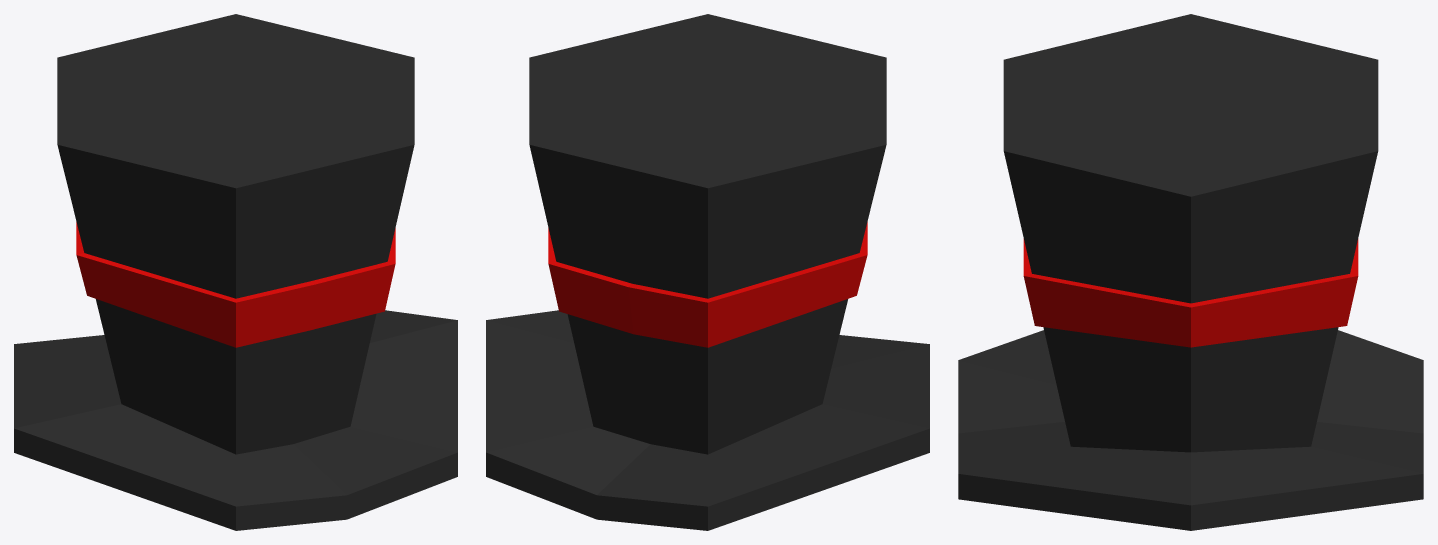
Rendered from sombrero1.fbx.
3 views of the same model, side by side, from view 1: azimuth 30°, elevation 25°; view 2: azimuth 150°, elevation 25°; view 3: azimuth 270°, elevation 25° (orthographic). The views are drawn at different scales.
Parts seen in each view (by area): view 1: Sombrero1; view 2: Sombrero1; view 3: Sombrero1.
Part boxes in pixels (<box>): Sombrero1: <box>14,14,457,530</box>; Sombrero1: <box>486,14,929,530</box>; Sombrero1: <box>958,14,1423,530</box>.
Size of the model in its own units: 34.08 by 24.74 by 29.51.
